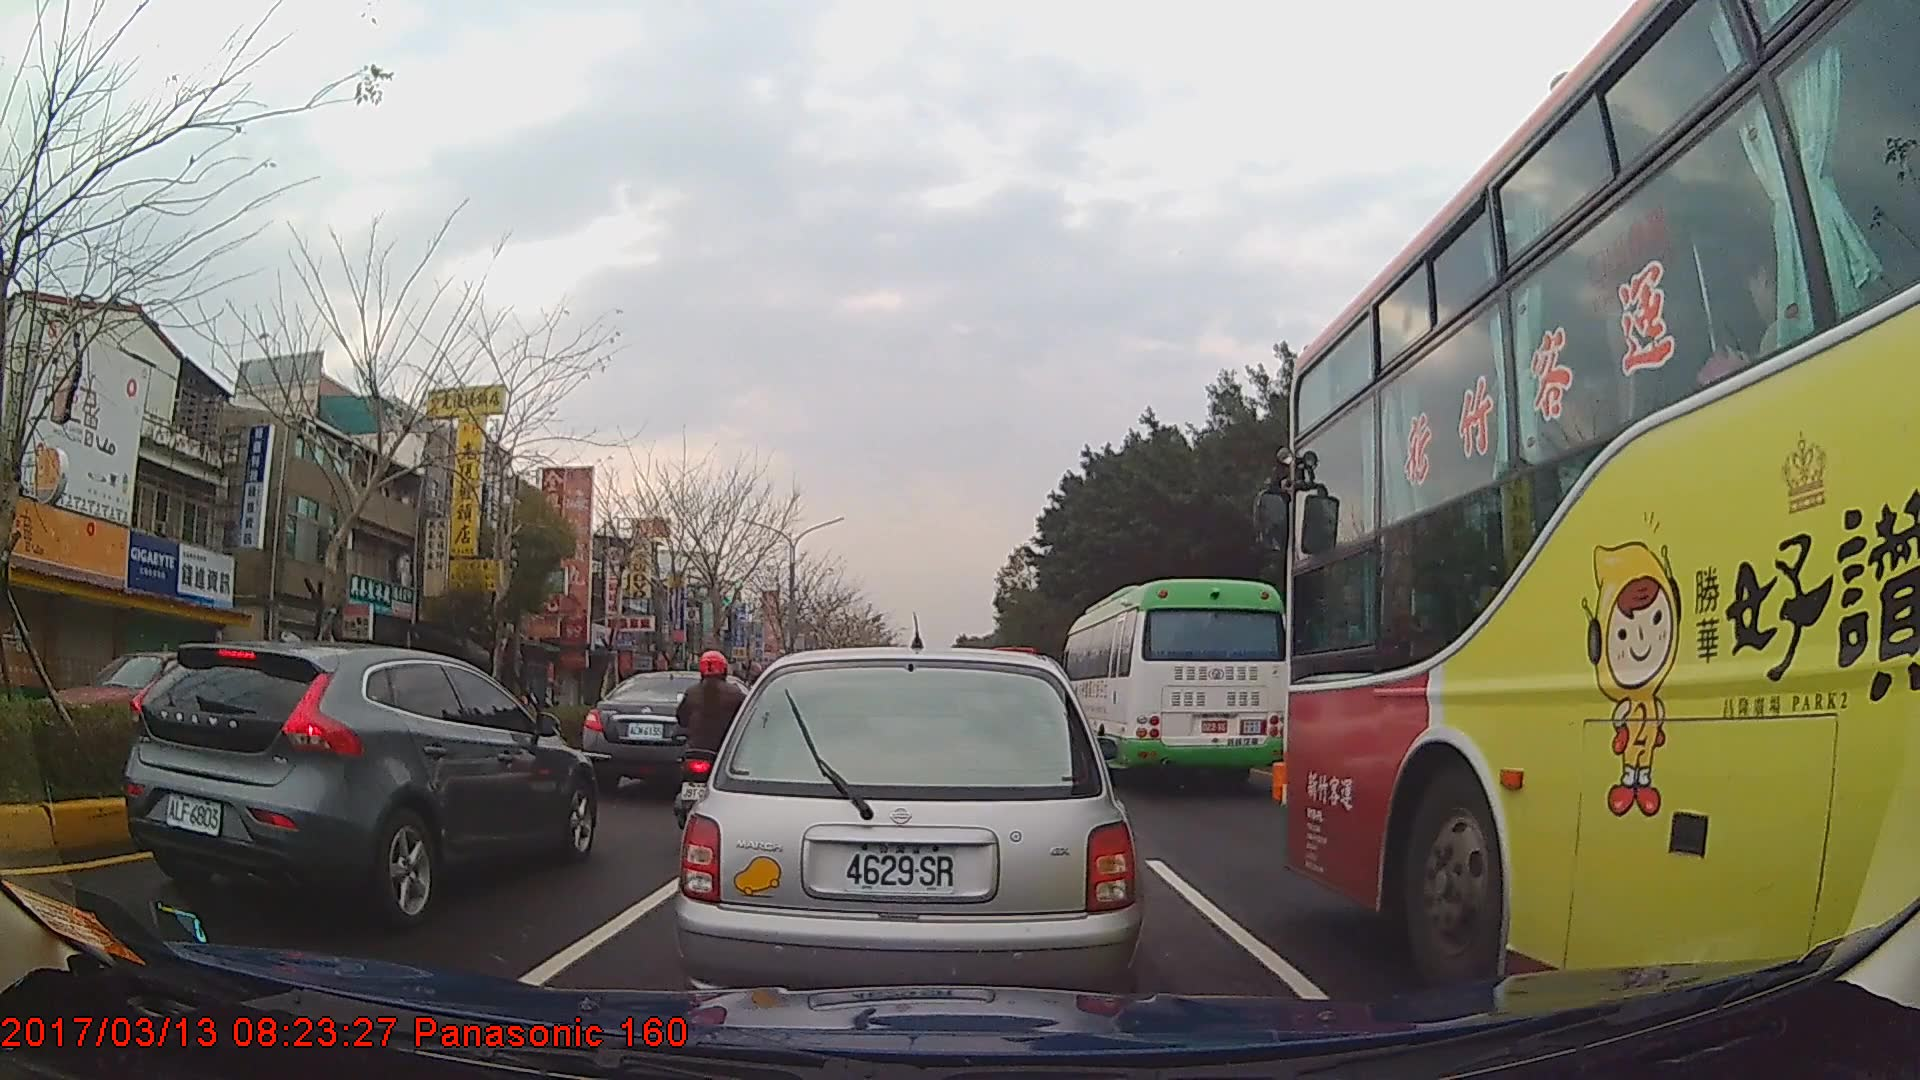rider: (672, 648, 757, 837)
vehicle: (1283, 0, 1920, 1002), (680, 644, 1140, 1018), (121, 638, 600, 931), (1060, 576, 1293, 786), (48, 647, 286, 749), (581, 671, 757, 792)
